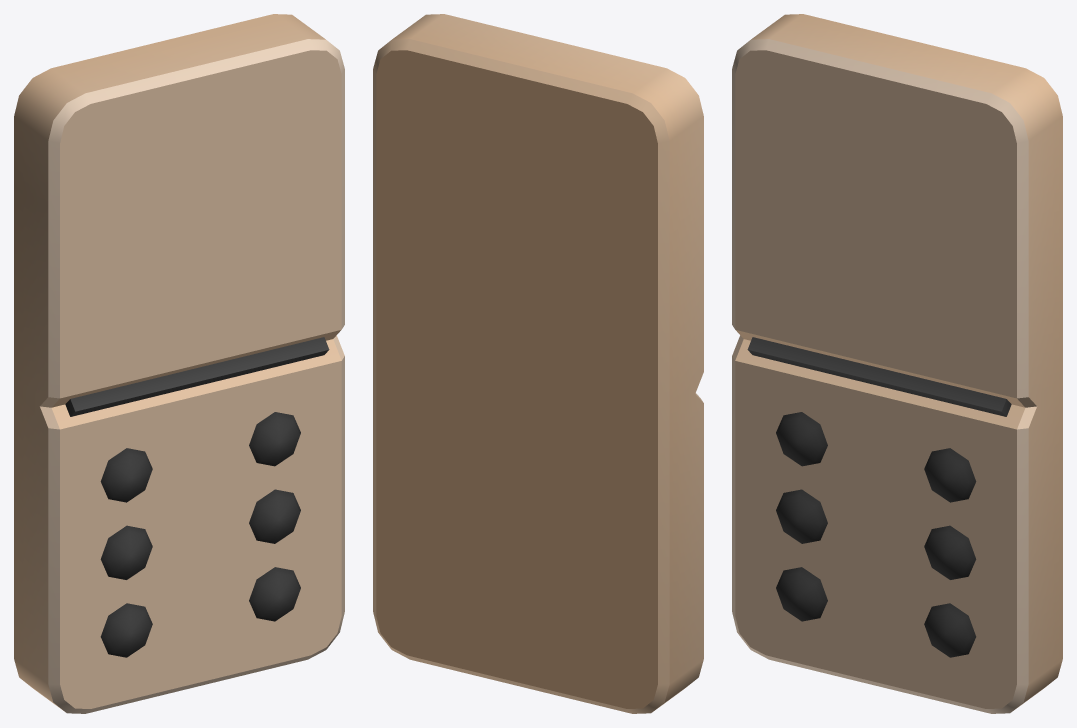
The model's file is KFB_Domino_0-6.r1.glb.
3 renders of one model, left to right at view 1: azimuth 30°, elevation 25°; view 2: azimuth 150°, elevation 25°; view 3: azimuth 330°, elevation 25°, orthographic.
Parts seen in each view (by area): view 1: KFB_Domino_0-6; view 2: KFB_Domino_0-6; view 3: KFB_Domino_0-6.
Part boxes in pixels (x1,y1,x2,y2): KFB_Domino_0-6: (14,14,344,713); KFB_Domino_0-6: (373,14,703,713); KFB_Domino_0-6: (732,14,1062,713).
Bounding box in the file's own units: 2.44 × 4.87 × 0.6739.
Materials: 1 (1 with a texture image).
